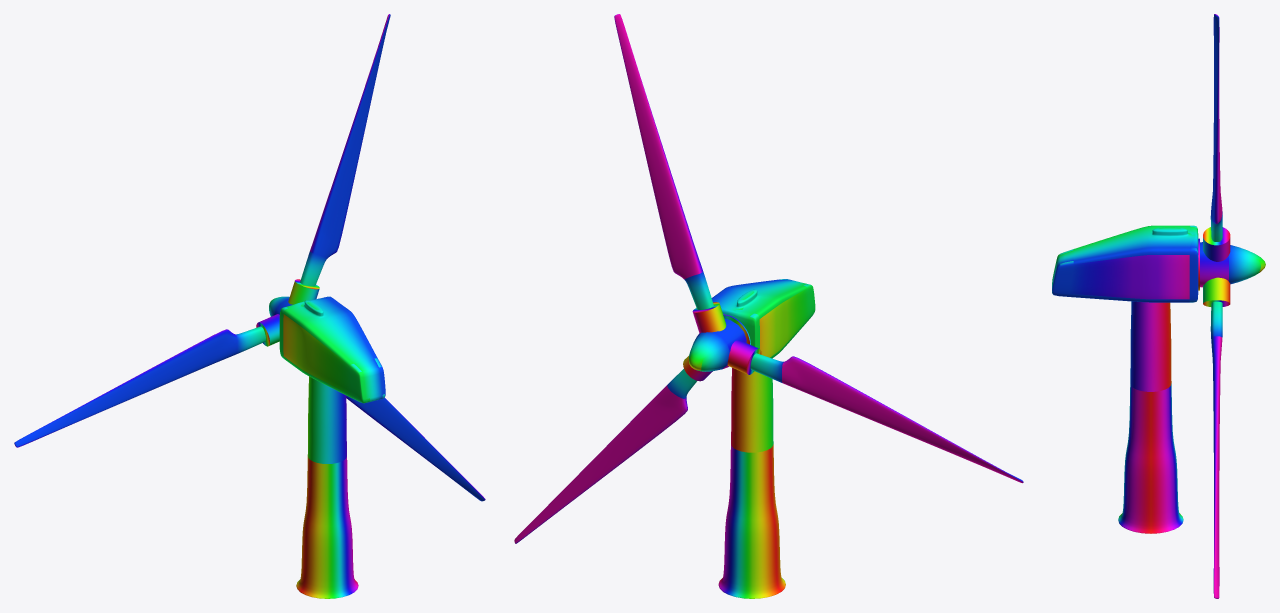
File: windt.obj
3 renders of one model, left to right at view 1: azimuth 30°, elevation 25°; view 2: azimuth 150°, elevation 25°; view 3: azimuth 270°, elevation 25°, orthographic. The views are drawn at different scales.
Parts seen in each view (by area): view 1: subdivCylinder1, subdivCube1, group6 subdivCube3, group6 subdivCube4, group6 subdivCube2; view 2: subdivCylinder1, group6 subdivCube4, group6 subdivCube3, subdivCube1, group6 subdivCube2, group6 pasted__pasted__subdivSphere1, group6 pCylinder4, pCylinder3 group6; view 3: subdivCylinder1, subdivCube1, group6 subdivCube2, group6 subdivCube4, group6 pasted__pasted__subdivSphere1, pCylinder3 group6, group6 pCylinder5.
Part boxes in pixels (<box>): subdivCylinder1: <box>296,376,358,598</box>; subdivCube1: <box>279,296,385,403</box>; group6 subdivCube3: <box>14,326,265,447</box>; group6 subdivCube4: <box>300,14,390,286</box>; group6 subdivCube2: <box>346,395,485,501</box>; subdivCylinder1: <box>718,368,785,598</box>; group6 subdivCube4: <box>614,14,713,309</box>; group6 subdivCube3: <box>750,353,1023,483</box>; subdivCube1: <box>711,279,815,358</box>; group6 subdivCube2: <box>514,369,696,543</box>; group6 pasted__pasted__subdivSphere1: <box>689,319,746,371</box>; group6 pCylinder4: <box>727,340,761,374</box>; pCylinder3 group6: <box>692,302,726,333</box>; subdivCylinder1: <box>1118,301,1183,533</box>; subdivCube1: <box>1052,225,1198,302</box>; group6 subdivCube2: <box>1210,301,1222,598</box>; group6 subdivCube4: <box>1210,14,1222,241</box>; group6 pasted__pasted__subdivSphere1: <box>1200,242,1265,287</box>; pCylinder3 group6: <box>1203,227,1230,261</box>; group6 pCylinder5: <box>1203,277,1230,306</box>.
Size of the model in its own units: 5.64 by 6.04 by 2.12.
Materials: 1 (1 with a texture image).
